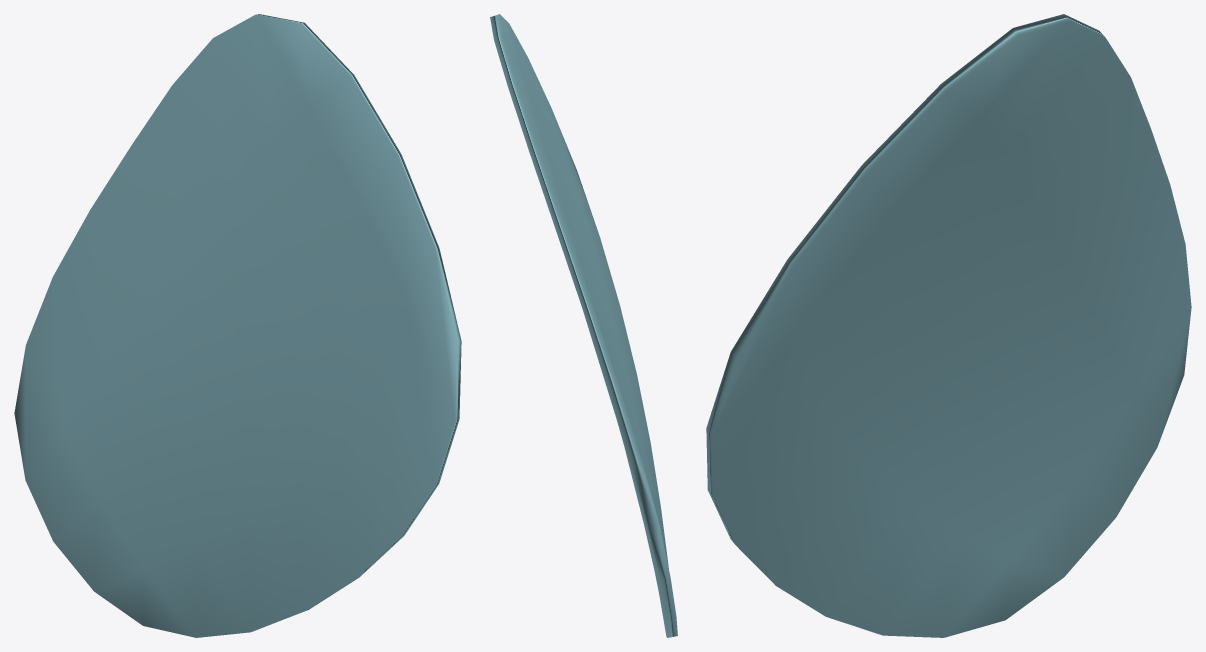
3 views of the same model, side by side, from view 1: azimuth 30°, elevation 25°; view 2: azimuth 150°, elevation 25°; view 3: azimuth 270°, elevation 25° (orthographic). The views are drawn at different scales.
Visible parts, largest first — view 1: 右侧胸锁关节盘; view 2: 右侧胸锁关节盘; view 3: 右侧胸锁关节盘.
Part boxes in pixels (left/top/right/bottom): 右侧胸锁关节盘: left=14, top=14, right=461, bottom=637; 右侧胸锁关节盘: left=490, top=14, right=677, bottom=637; 右侧胸锁关节盘: left=706, top=14, right=1191, bottom=637.
Bounding box in the file's own units: 0.0229 × 0.0457 × 0.0293.
